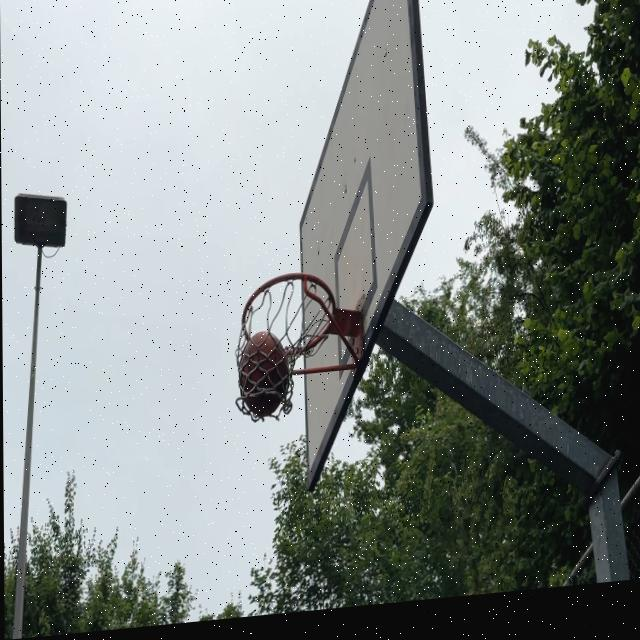Goal: (239, 330, 288, 417)
